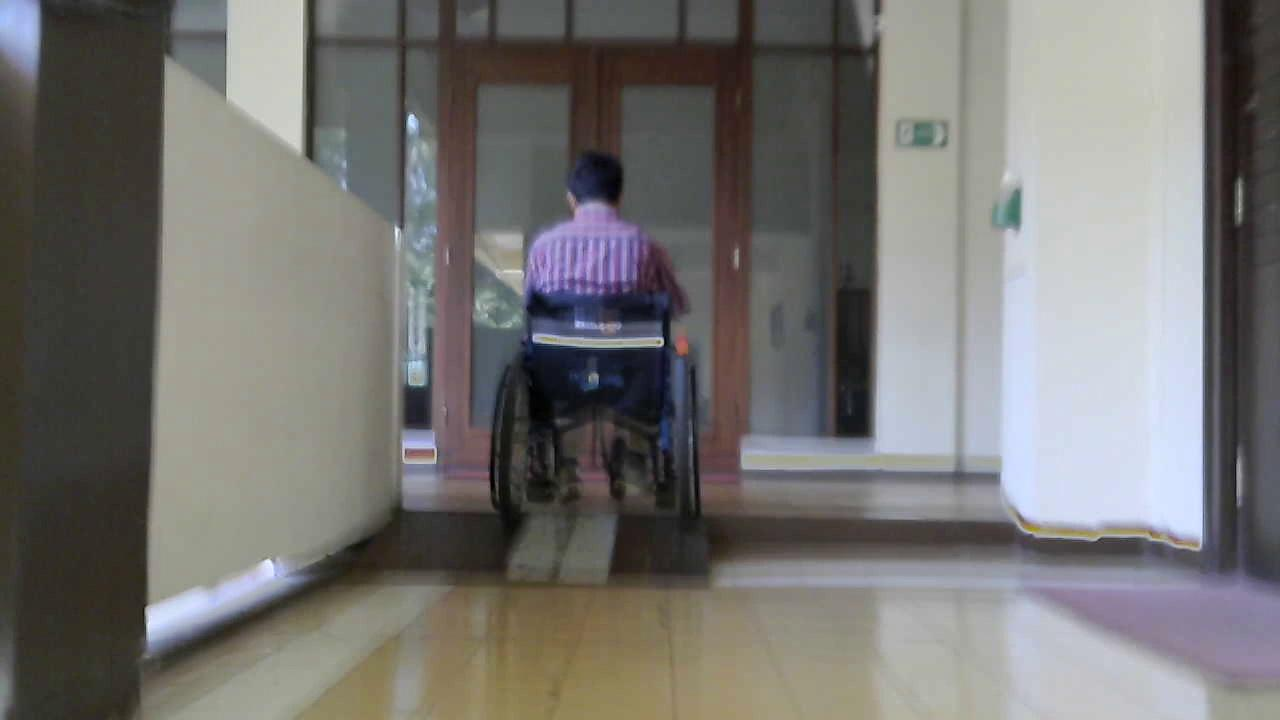person: (520, 150, 694, 501)
wheelchair: (466, 281, 722, 528)
